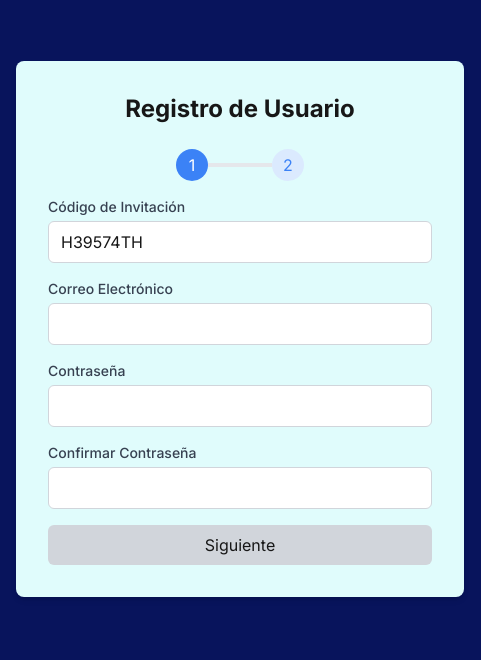
RegisterFormUser › no deja pasar al paso 2 sin un correo válido
This screenshot has width=481, height=660.
In the field labelled "Correo Electrónico": (240, 324) [48,303,432,345], type "no-es-un-correo"
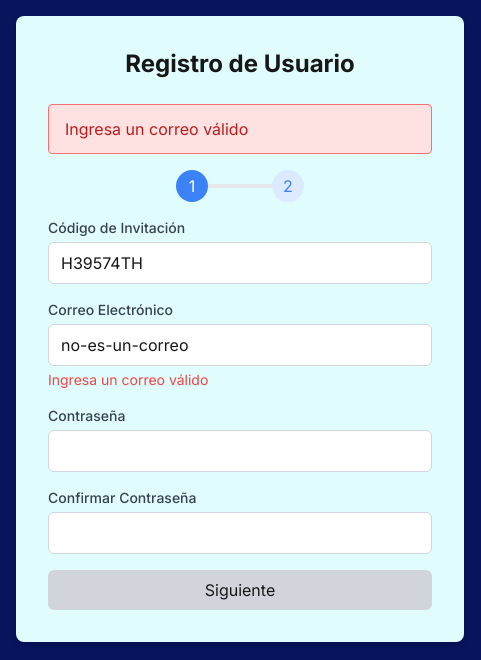
Expected: the button "Siguiente" is disabled, [48,570,432,610]
Expected: the 1st text "Ingresa un correo válido" is shown, [48,104,432,154]
Replace the text in the field labelled "Correo Electrónico" with "persona@correo.test": (240, 345) [48,324,432,366]
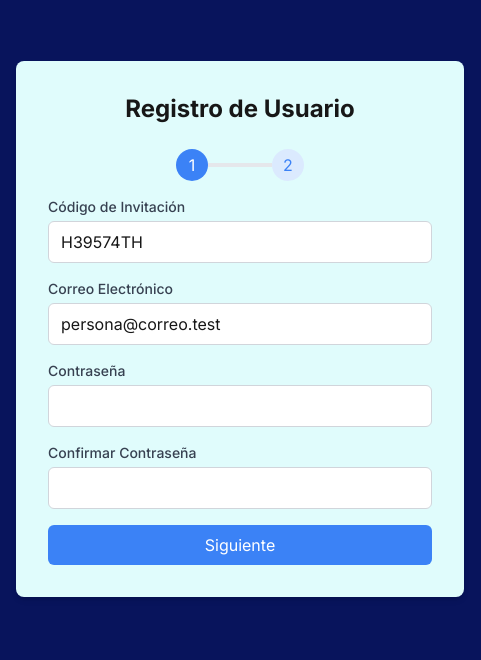
Expected: the button "Siguiente" is enabled, [48,525,432,565]
